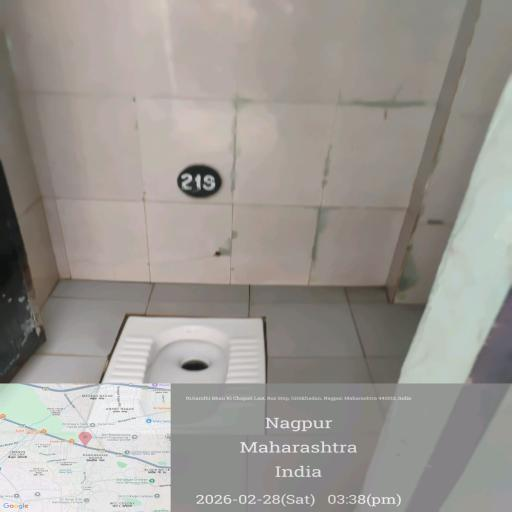clean_floor: (15, 0, 480, 311), (270, 307, 512, 511)
clean_indian: (98, 303, 272, 439)
